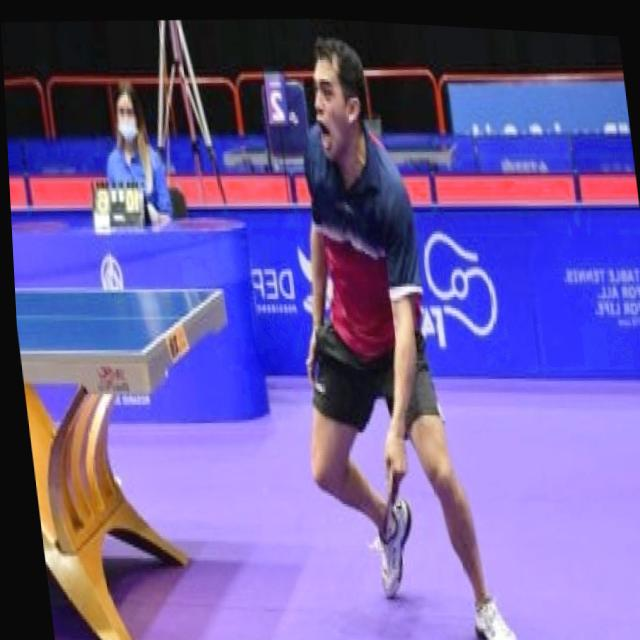TT Racket: (377, 465, 404, 542)
TT Table: (15, 286, 220, 354)
